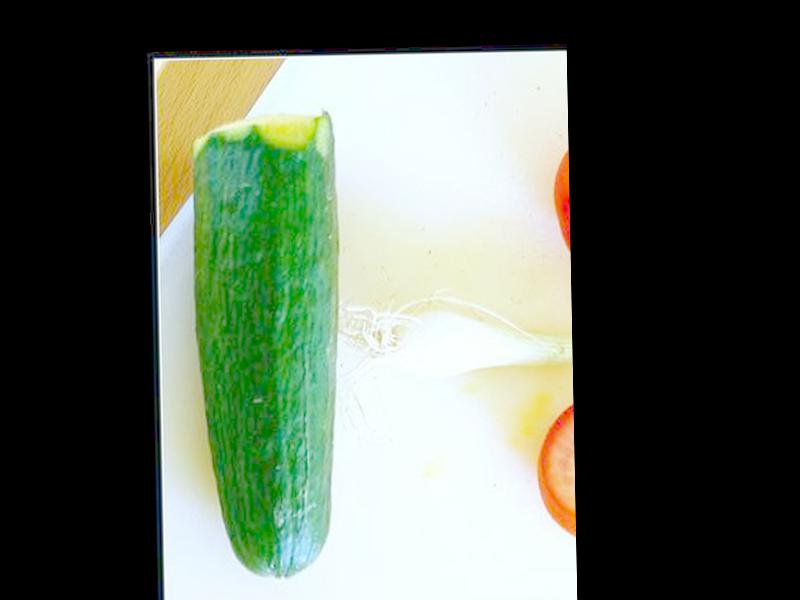Cucumber: (189, 110, 343, 582)
